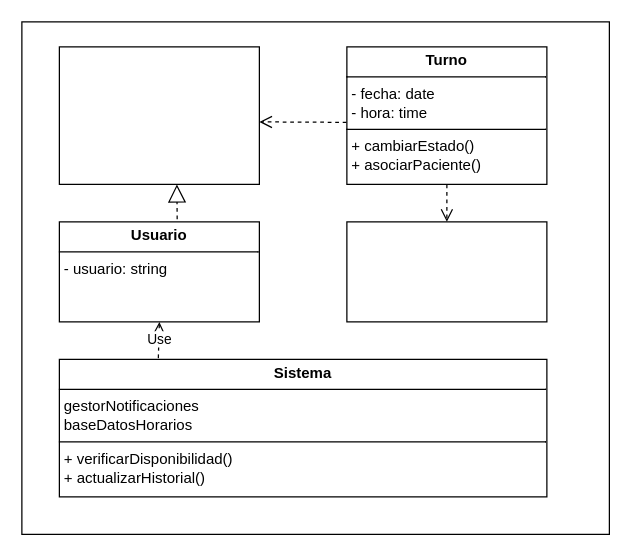
The diagram is 631 pixels wide and 556 high, and some of its shapes have lost their labels. Here are the shapes that lost their labels. From the top down, the centre of each, then its label:
At (158,115): "Paciente - nombre: string - dni + consultarHistorial() + solicitarTurno()".
At (446,271): "Médico - nombre: string - matricula: int - especialidad: string".
